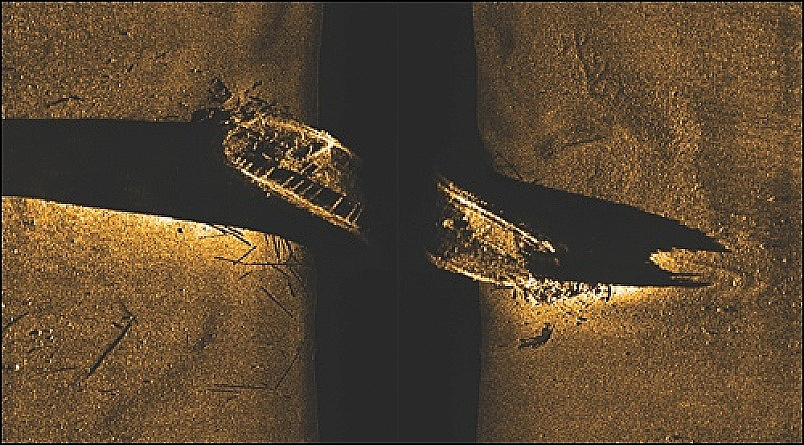ship: (218, 110, 565, 288)
